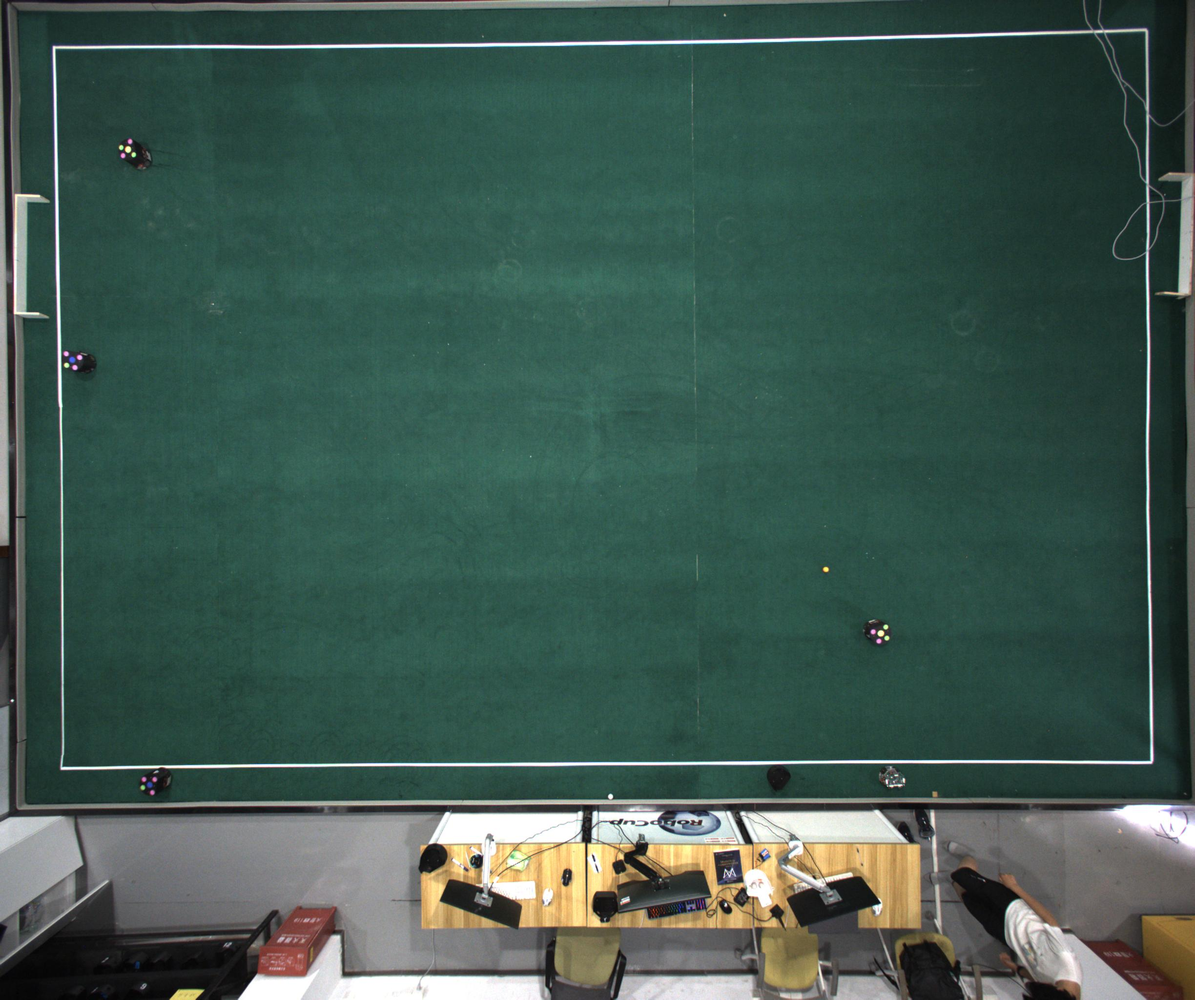ball: (822, 566, 829, 573)
blue_bot: (62, 351, 83, 371), (140, 776, 159, 797)
yellow_bot: (869, 624, 891, 646), (118, 138, 138, 162)
